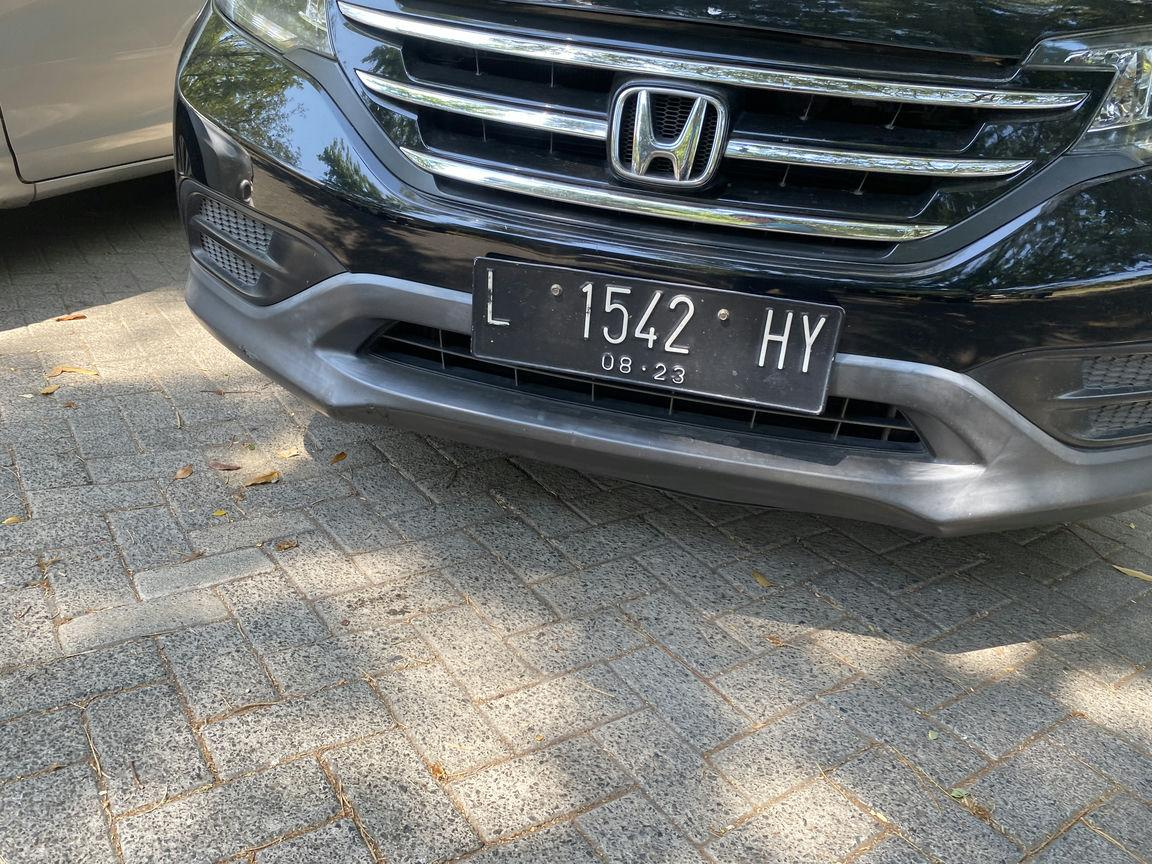plat: (472, 259, 844, 414)
